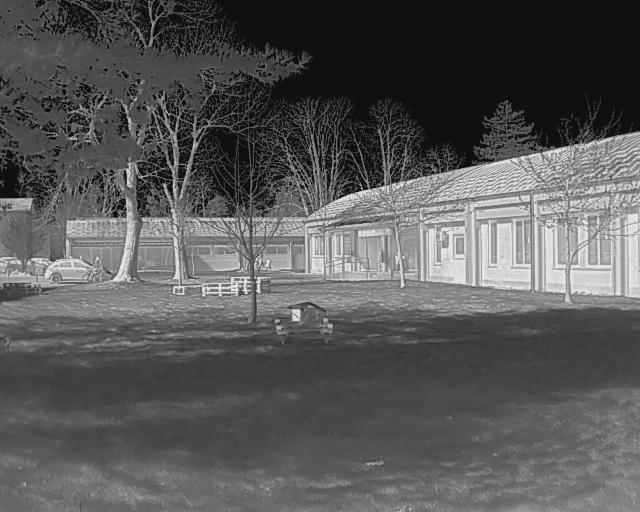drone: (265, 294, 343, 346)
